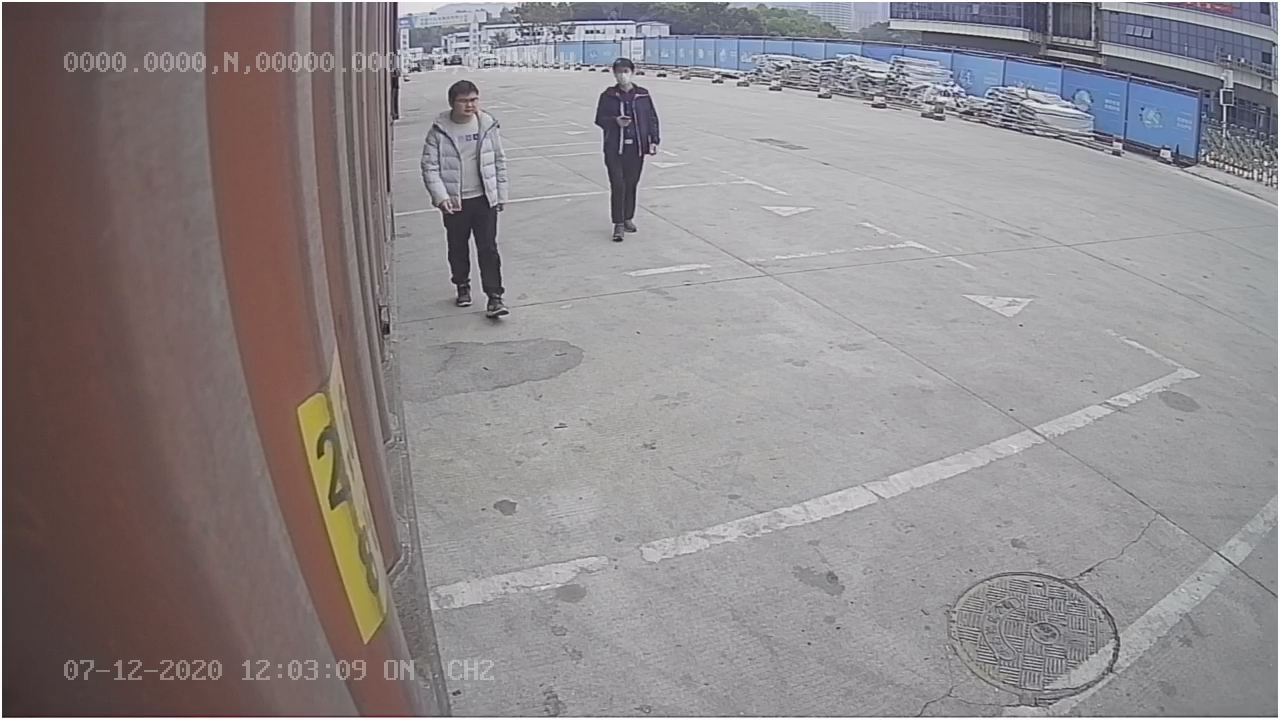person: (422, 78, 514, 319)
